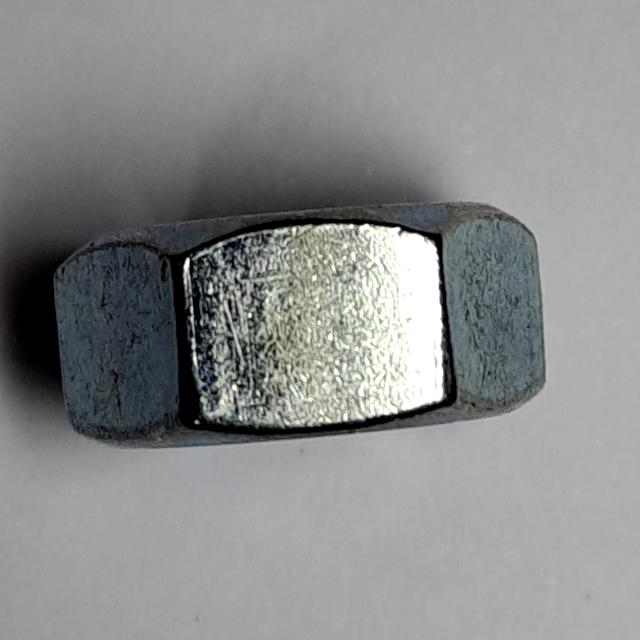Side_Excellent: (47, 175, 567, 463)
